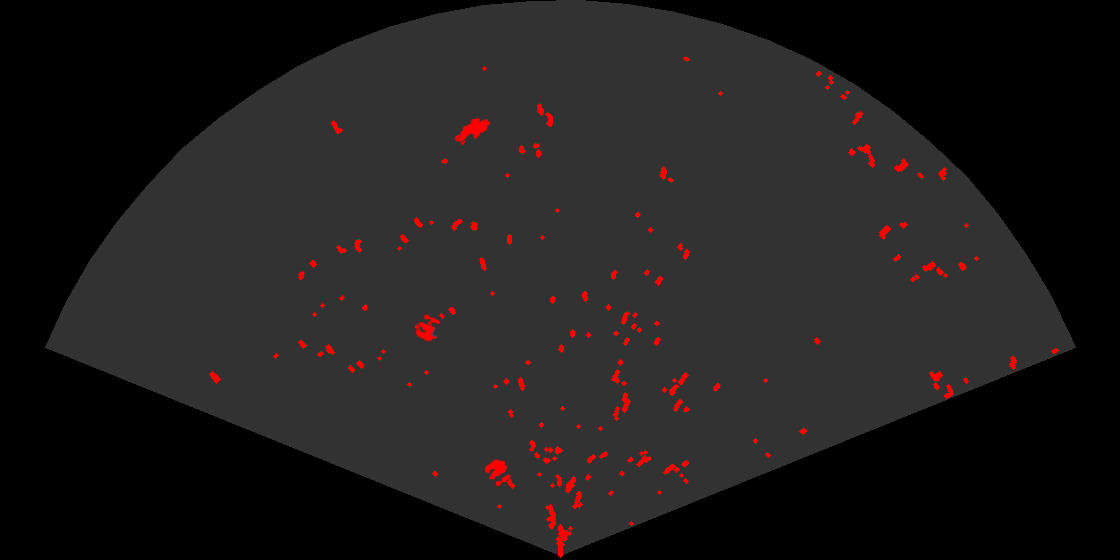AUV: (456, 116, 492, 144)
ball: (483, 457, 512, 488), (413, 313, 442, 343)
